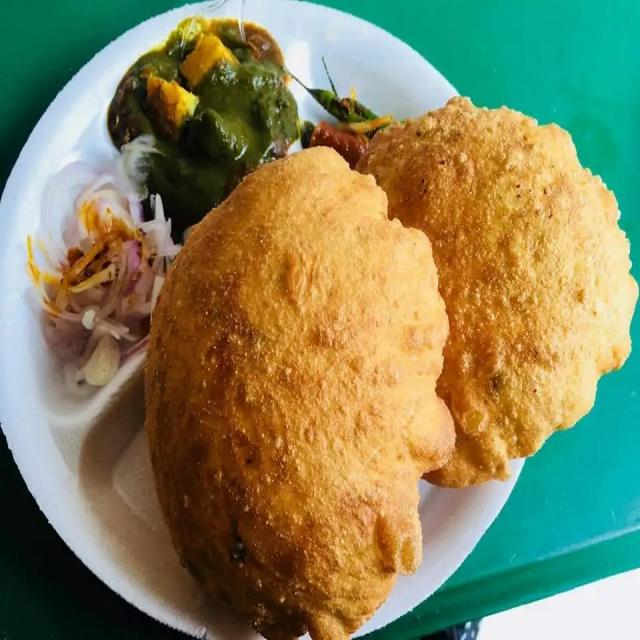Bhatura: (148, 94, 640, 640)
